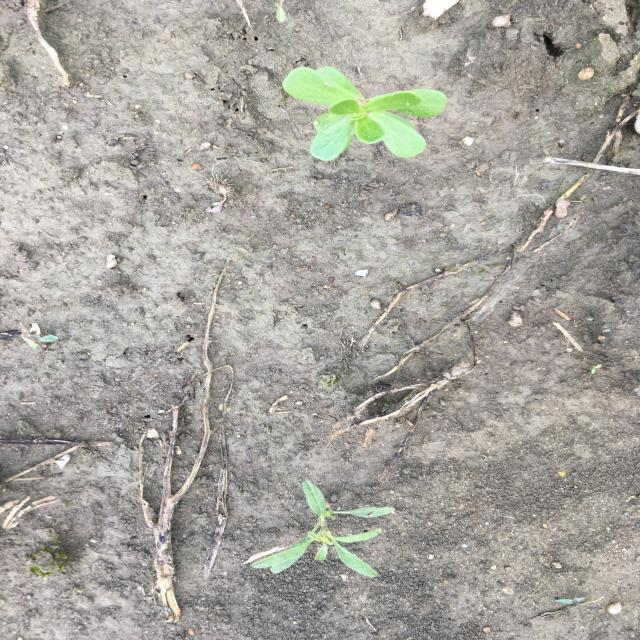Purslane: (280, 64, 449, 163)
Waterhemp: (246, 478, 397, 582)
